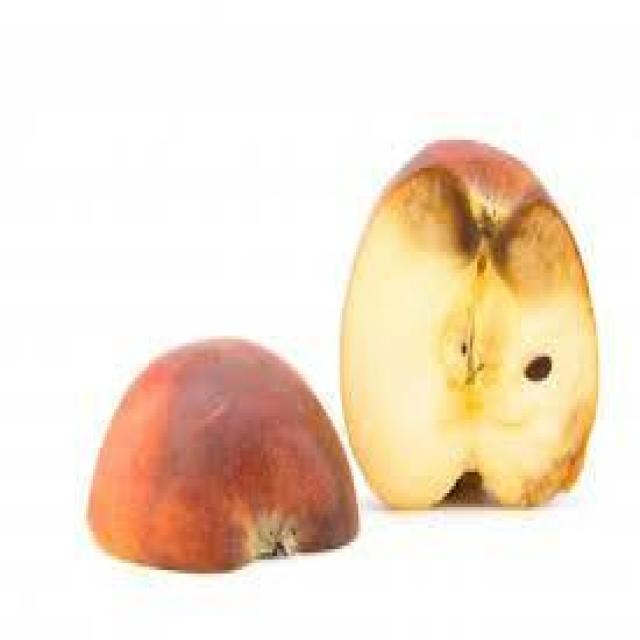maca: (338, 133, 598, 507), (84, 332, 358, 570)
